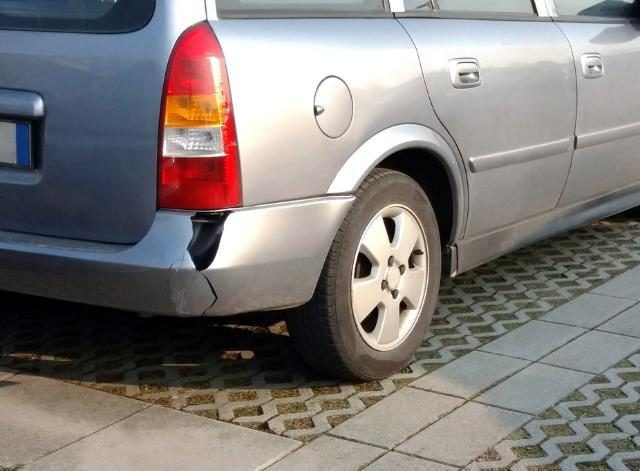Bumper: (164, 216, 269, 316)
